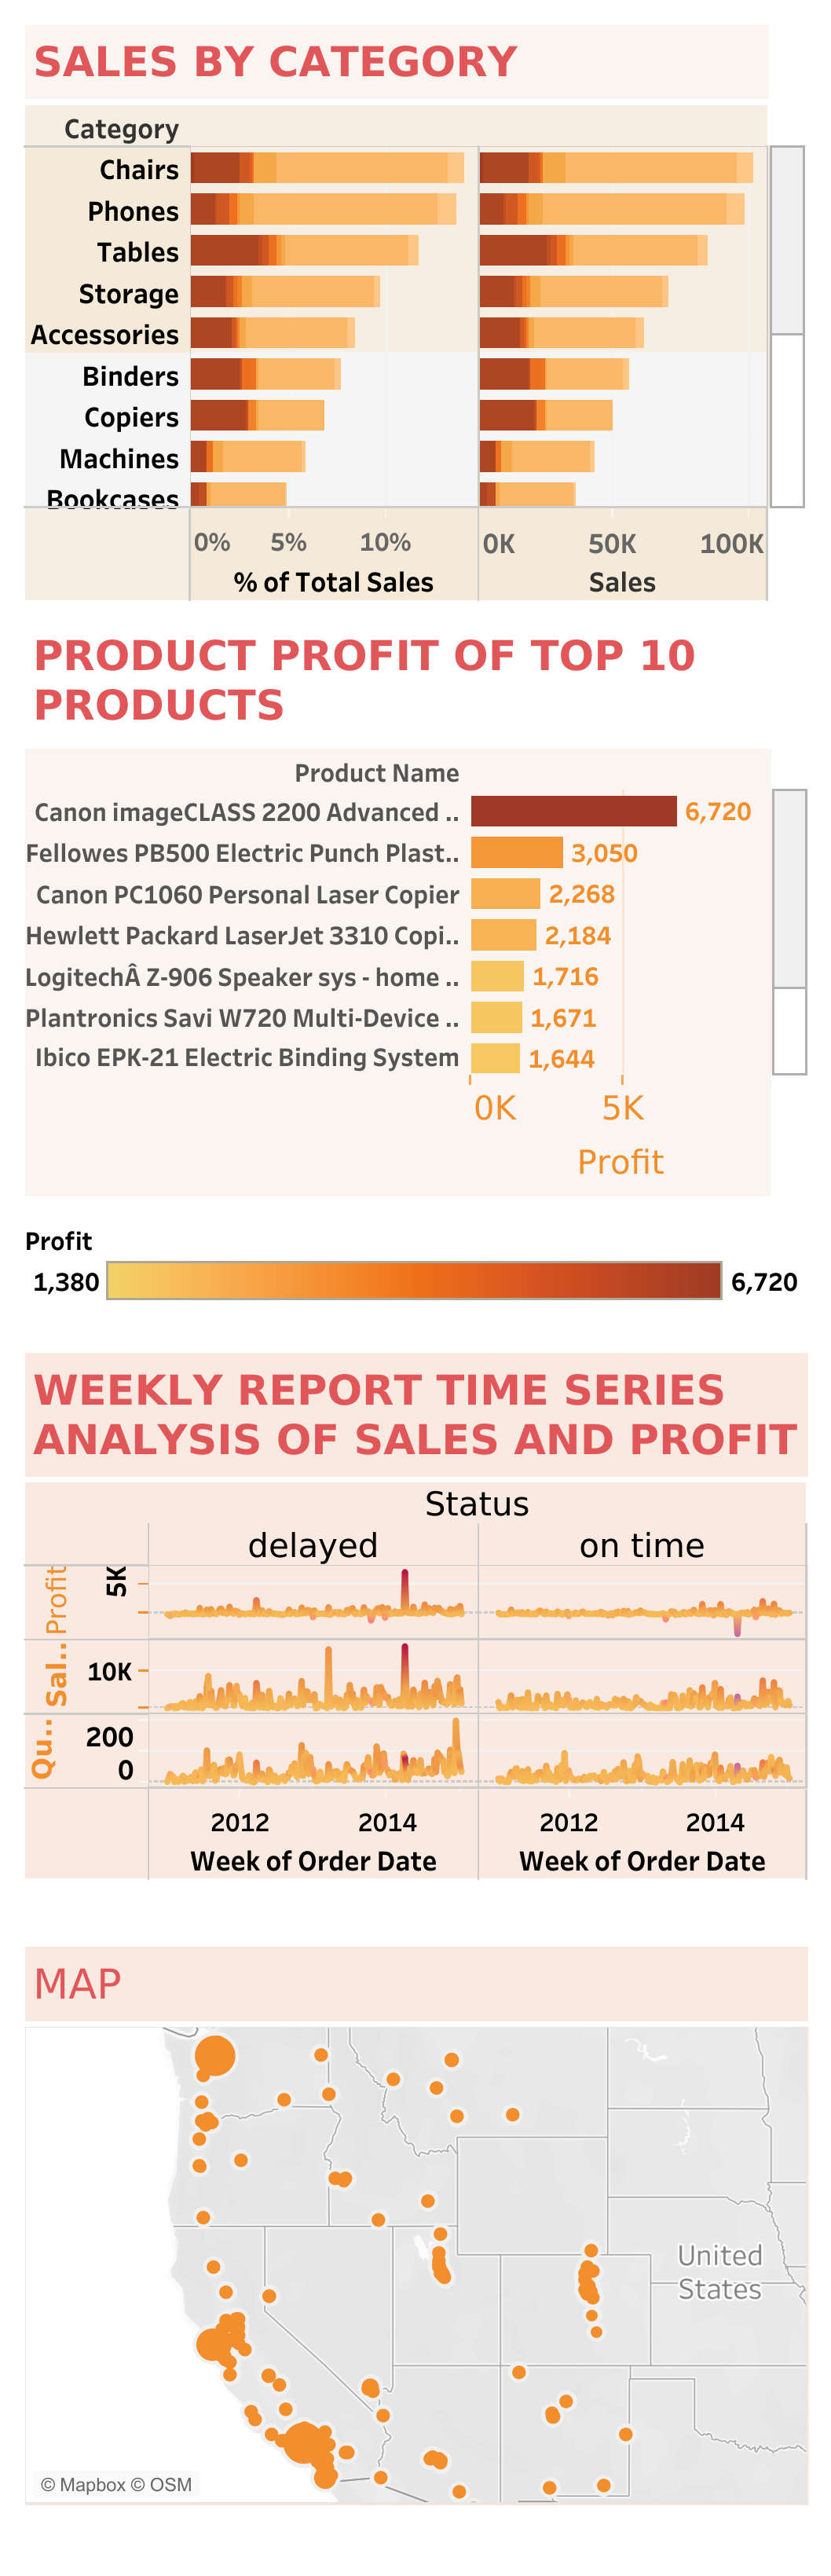

The dashboard page shown, as its layout file describes it:
{"tool":"tableau","page":{"name":"AMAZON","canvas":[1000,1000],"units":"permille","ordinal":0},"visuals":[{"type":"legend","title":"PROFIT","param":"[federated.0ddrs211oe8h10195pfgt0kscg11].[sum:Profit:qk]","box":[6.9,13.6,986.1,54.2]},{"type":"worksheet","title":"SALES","mark":"Automatic","rows":["Category"],"cols":["Sales"],"box":[6.9,67.8,543.7,463.6]},{"type":"worksheet","title":"PROFIT","mark":"Automatic","rows":["Product Name"],"cols":["Profit"],"box":[550.6,67.8,442.4,918.6]},{"type":"worksheet","title":"TIME ANALYSIS","mark":"Automatic","rows":["Profit","Sales","Quantity"],"cols":["status","Order Date"],"box":[6.9,531.4,543.7,455.1]},{"type":"worksheet","title":"MAP","mark":"Automatic","box":[614.9,655.9,381.3,339]}]}

Visuals, with their boxes on the dashboard's canvas, which has no fixed pixel size, in thousandths of its width and height (x1, y1, x2, y2). These are canvas units, not pixel positions in the 831x2576 screenshot, which may show the page scaled, cropped or inside an application window:
"PROFIT" legend: bbox(7, 14, 993, 68)
"SALES" worksheet: bbox(7, 68, 551, 531)
"PROFIT" worksheet: bbox(551, 68, 993, 986)
"TIME ANALYSIS" worksheet: bbox(7, 531, 551, 986)
"MAP" worksheet: bbox(615, 656, 996, 995)
